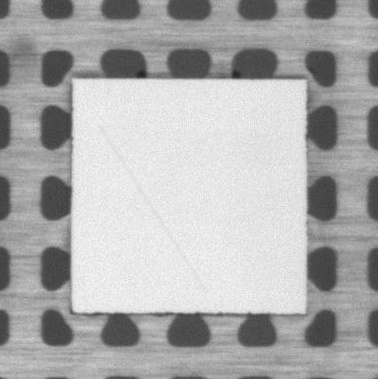DIE_CRACK: (99, 125, 205, 292)
